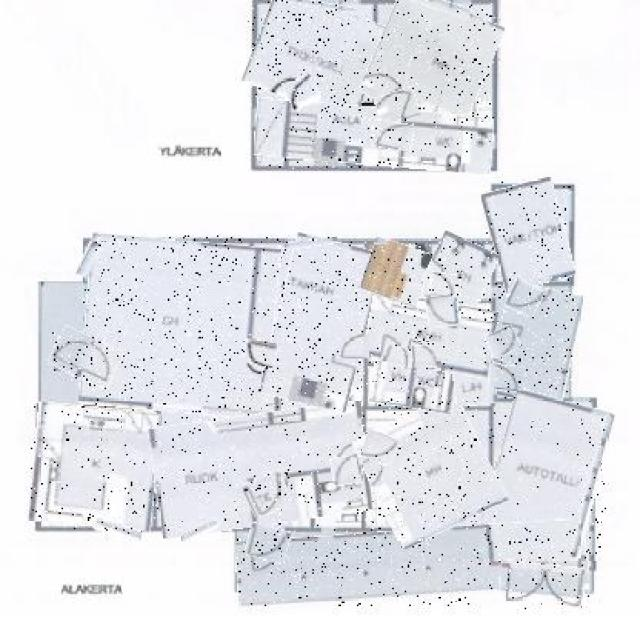door: (497, 563, 585, 609), (51, 330, 120, 384), (244, 472, 290, 516), (248, 525, 290, 560), (377, 89, 420, 122), (372, 120, 412, 149), (508, 282, 542, 316), (361, 432, 397, 463), (286, 77, 319, 109), (428, 295, 460, 328), (331, 456, 363, 486), (489, 366, 525, 391), (245, 340, 277, 368), (486, 328, 519, 355), (423, 272, 457, 298), (336, 334, 370, 358), (411, 346, 440, 368), (383, 348, 409, 369)
window: (582, 414, 609, 560), (409, 0, 471, 14), (94, 522, 141, 540), (78, 240, 97, 277), (271, 0, 357, 8), (180, 523, 218, 539), (283, 238, 337, 248), (375, 237, 388, 245)
zone: (83, 235, 277, 416), (237, 525, 589, 606), (151, 408, 371, 532), (483, 392, 603, 576), (363, 402, 499, 540), (268, 237, 375, 408), (31, 405, 160, 529), (368, 0, 495, 125), (255, 103, 492, 169), (247, 0, 381, 112), (491, 284, 578, 404), (366, 297, 497, 374), (486, 182, 571, 289), (424, 235, 494, 303), (369, 358, 457, 411), (363, 240, 429, 305), (452, 365, 497, 406)
